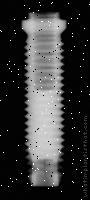Zimmer: (21, 13, 67, 188)
